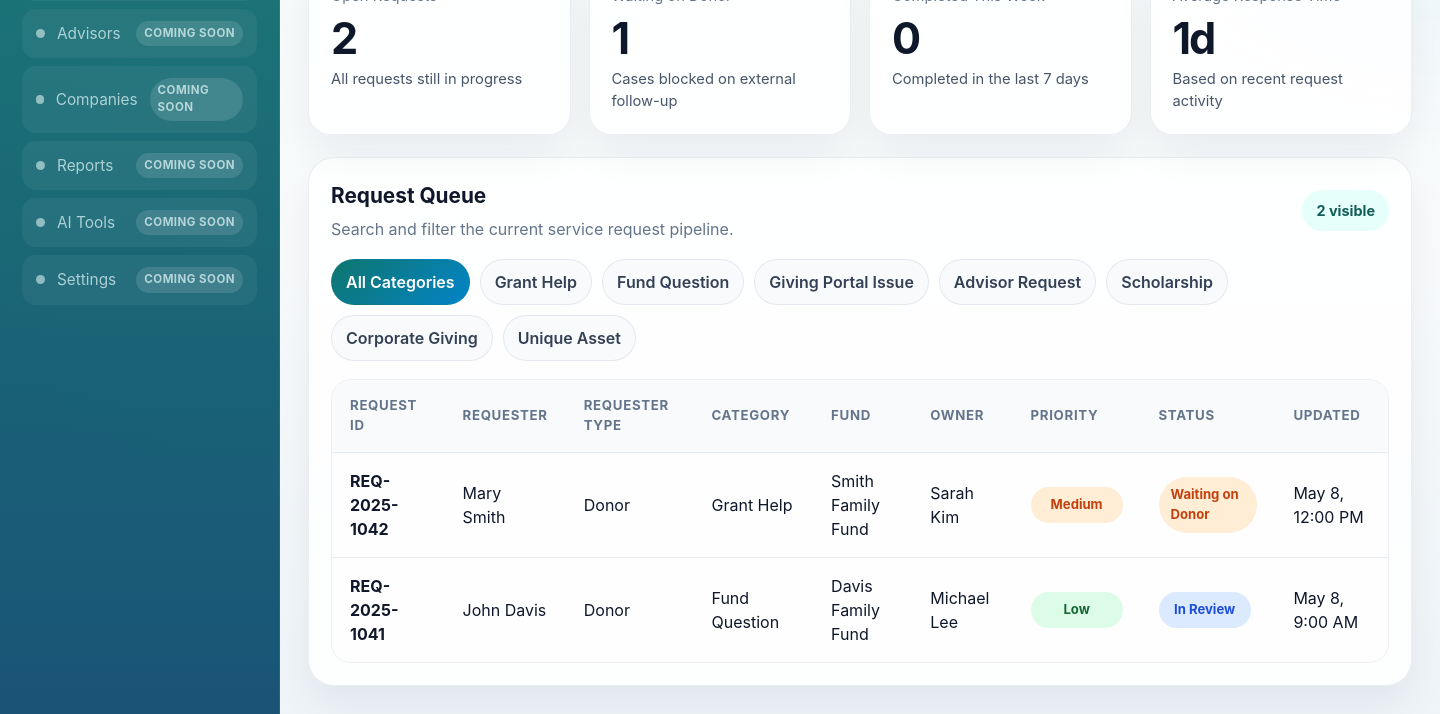
Test case: RequestsPage › drawer shows missing information warning when present
The width and height of the screenshot is (1440, 714).
(page scrolled)
Click the text "REQ-2025-1042".
click(388, 505)  # box [332,452,444,558]
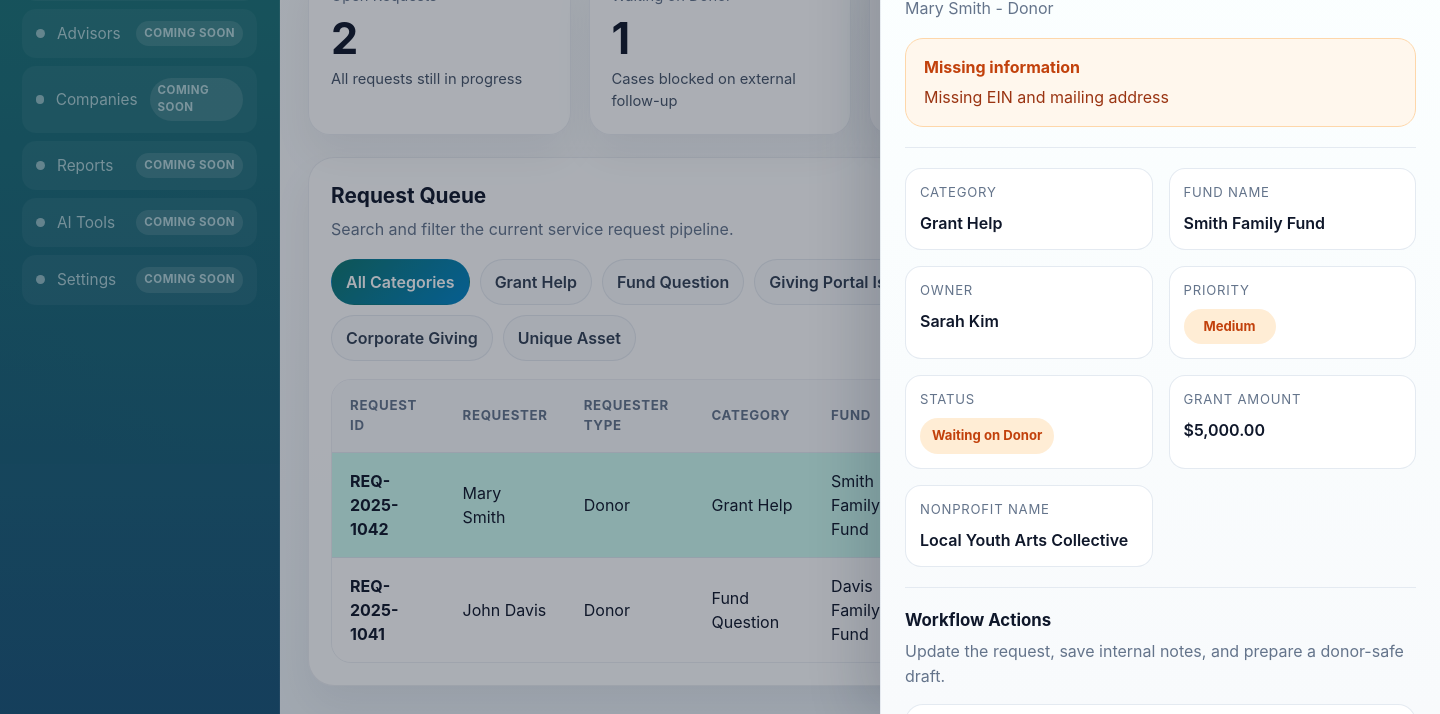
Now the text "Missing information" is shown, box [924,57,1080,77]
Now the text "Missing EIN and mailing address" is shown, box [924,87,1169,107]
